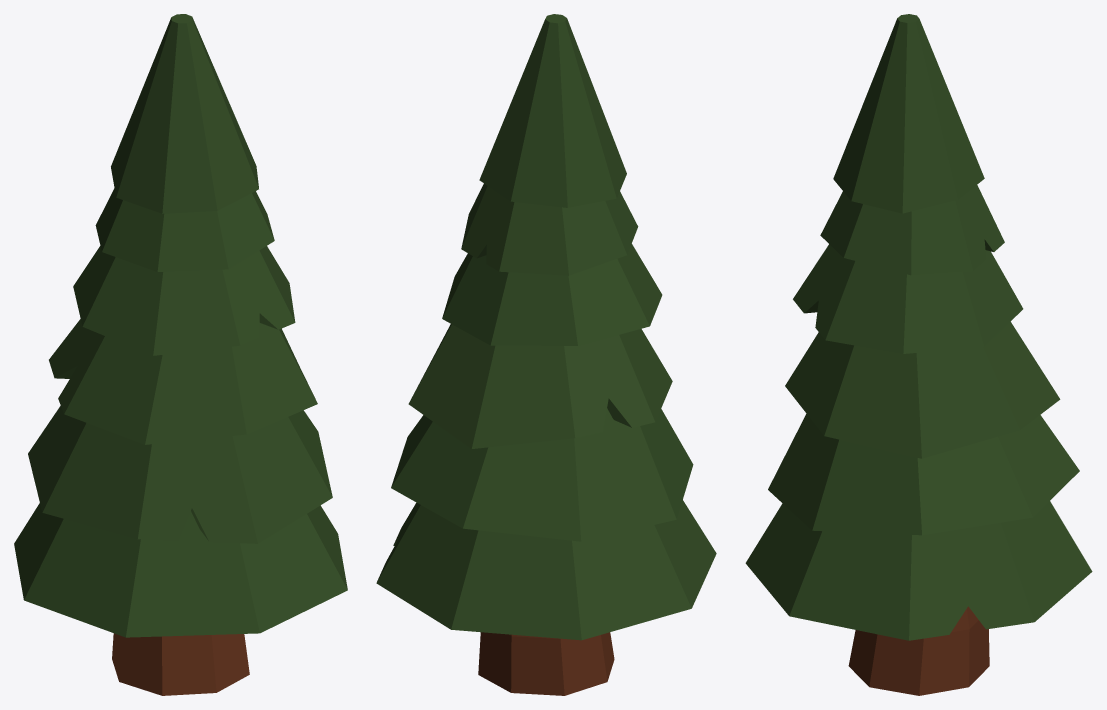
File: Digla2.glb
The picture shows the model from 3 angles, left to right: view 1: azimuth 30°, elevation 25°; view 2: azimuth 150°, elevation 25°; view 3: azimuth 270°, elevation 25°; orthographic projection.
Visible parts, largest first — view 1: Cylinder.001, Cylinder.002, Cylinder.003, Cylinder.006, Cylinder.004, Cylinder.005, Cylinder; view 2: Cylinder.001, Cylinder.002, Cylinder.003, Cylinder.006, Cylinder.004, Cylinder.005, Cylinder; view 3: Cylinder.001, Cylinder.002, Cylinder.003, Cylinder.006, Cylinder.004, Cylinder.005, Cylinder.
Boxes of the visible parts, x1,y1,x2,y2 form: Cylinder.001: [14, 503, 347, 637]; Cylinder.002: [28, 405, 332, 543]; Cylinder.003: [49, 319, 317, 444]; Cylinder.006: [111, 14, 258, 213]; Cylinder.004: [73, 246, 295, 355]; Cylinder.005: [95, 188, 274, 271]; Cylinder: [112, 633, 249, 695]; Cylinder.001: [376, 500, 716, 640]; Cylinder.002: [391, 408, 693, 541]; Cylinder.003: [408, 324, 672, 448]; Cylinder.006: [479, 14, 626, 207]; Cylinder.004: [442, 244, 662, 345]; Cylinder.005: [461, 183, 638, 275]; Cylinder: [478, 632, 614, 695]; Cylinder.001: [745, 501, 1092, 640]; Cylinder.002: [768, 414, 1079, 535]; Cylinder.003: [785, 321, 1060, 458]; Cylinder.006: [833, 14, 984, 213]; Cylinder.004: [793, 244, 1023, 353]; Cylinder.005: [820, 185, 1004, 275]; Cylinder: [848, 606, 989, 695].
Size of the model in its own units: 1.01 by 2.07 by 1.01.
